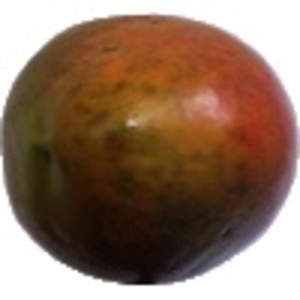manga: (1, 12, 300, 285)
